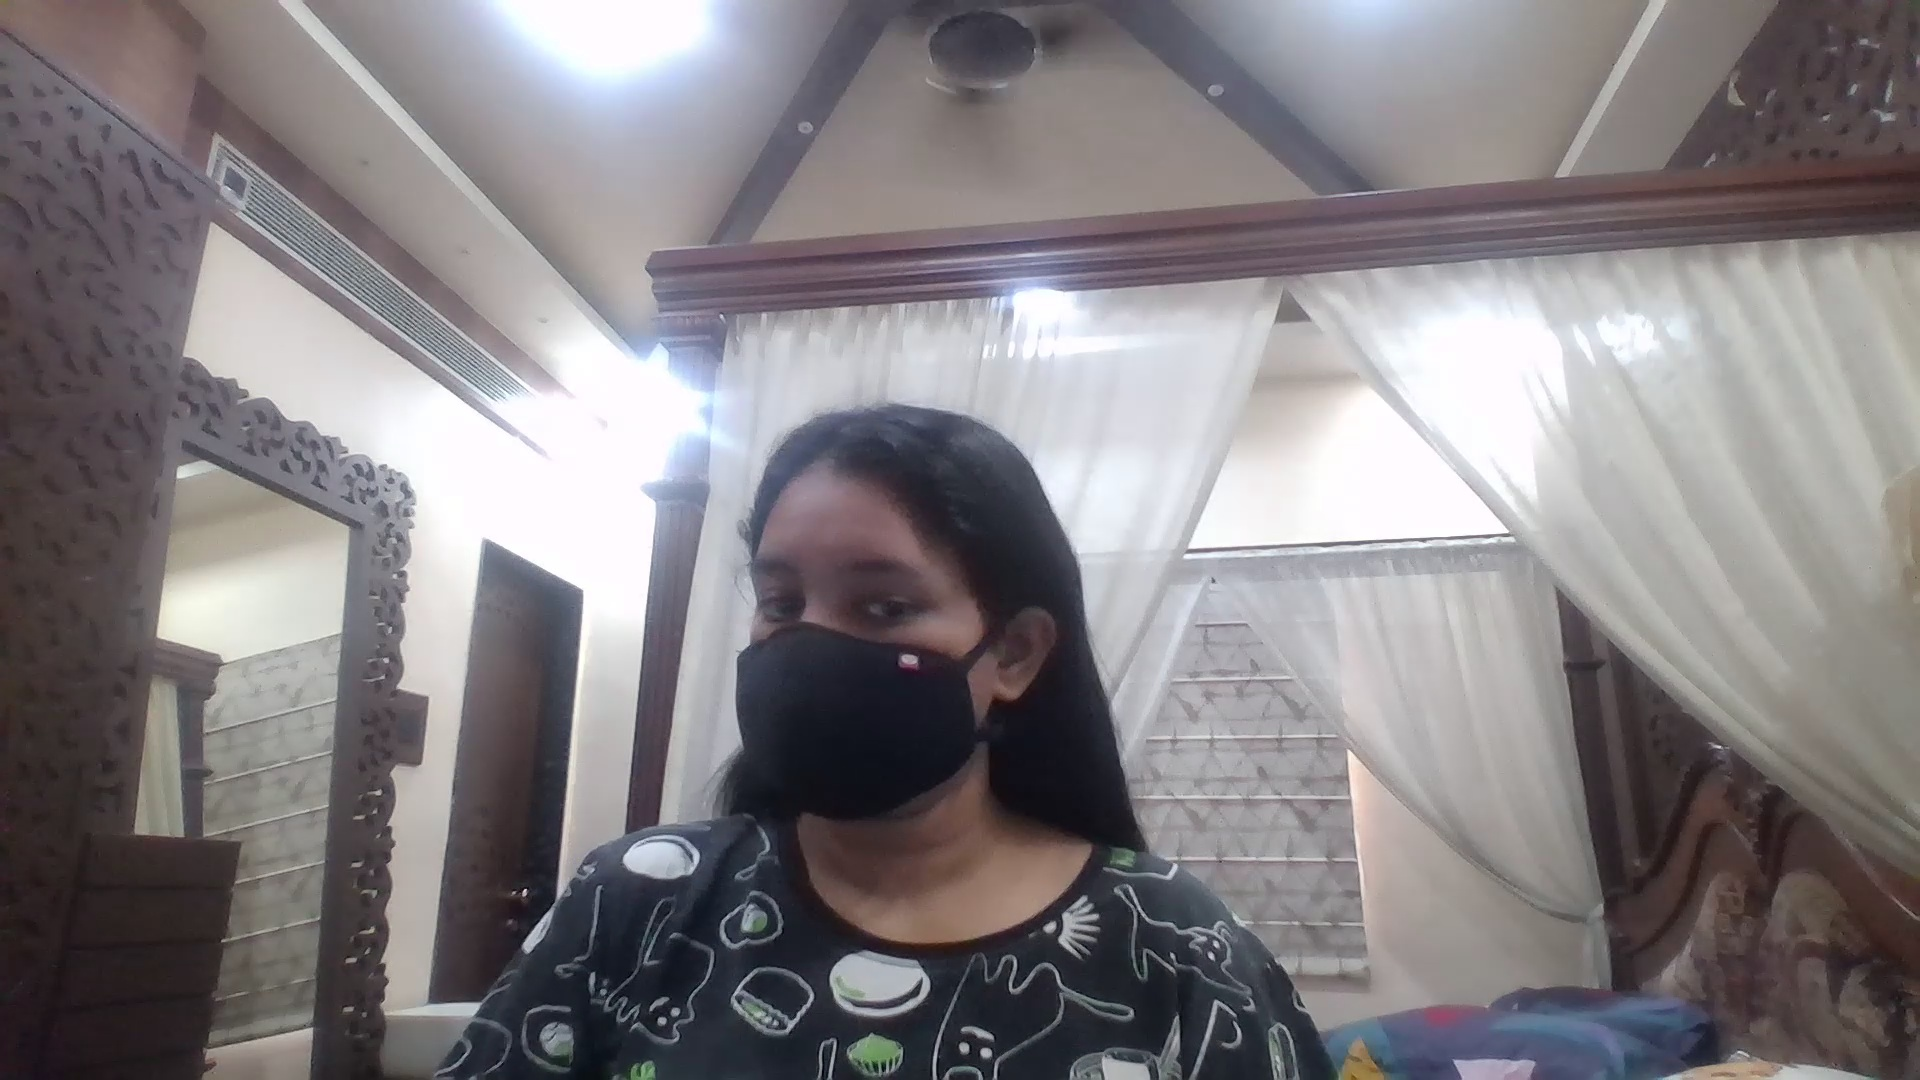Mask: (726, 622, 992, 836)
